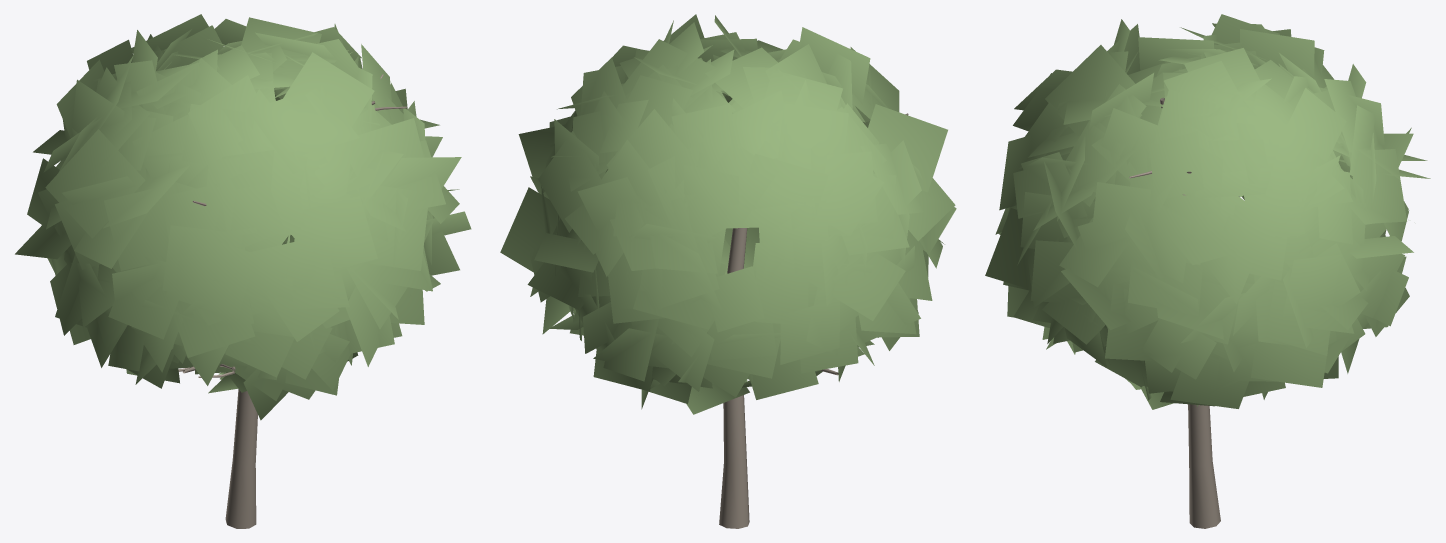
Rendered from elm.glb.
The picture shows the model from 3 angles, left to right: view 1: azimuth 30°, elevation 25°; view 2: azimuth 150°, elevation 25°; view 3: azimuth 270°, elevation 25°; orthographic projection.
Visible parts, largest first — view 1: Elm_LOD0; view 2: Elm_LOD0; view 3: Elm_LOD0.
Part boxes in pixels (x1,y1,x2,y2): Elm_LOD0: (15,14,471,528); Elm_LOD0: (500,14,956,528); Elm_LOD0: (985,14,1430,528).
Size of what is drawn, in the model's own units: 11.25 by 13.53 by 11.48.
